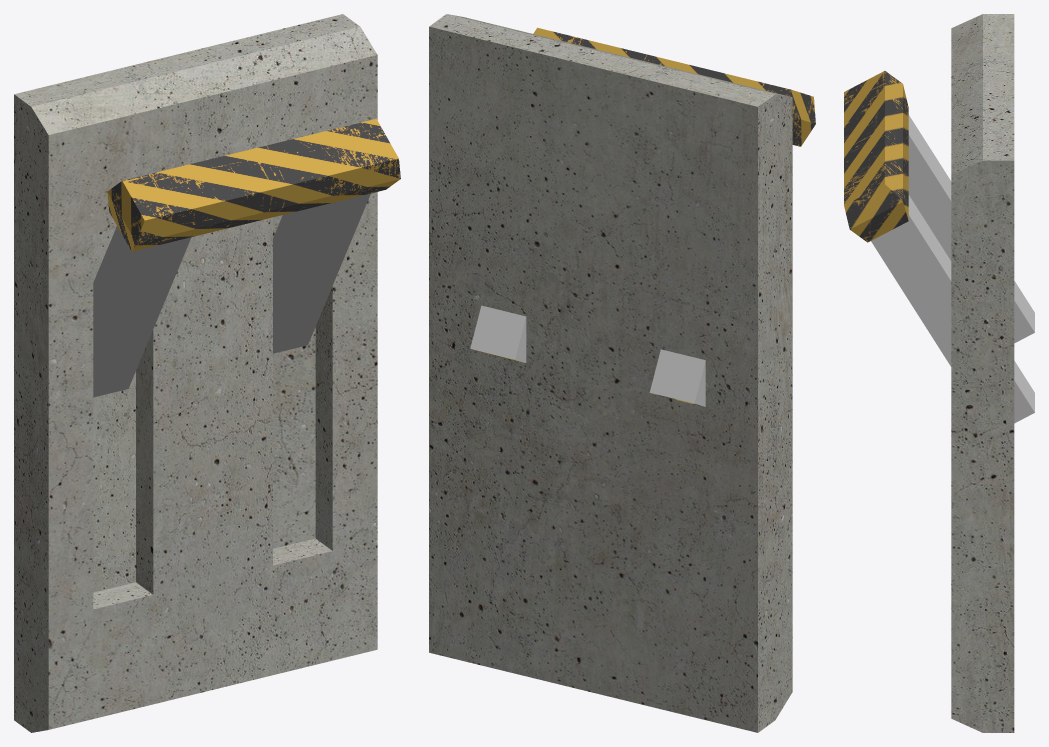
Rendered from switch.dae.
The picture shows the model from 3 angles, left to right: view 1: azimuth 30°, elevation 25°; view 2: azimuth 150°, elevation 25°; view 3: azimuth 270°, elevation 25°; orthographic projection. The views are drawn at different scales.
Visible parts, largest first — view 1: Base, Switch; view 2: Base, Switch; view 3: Base, Switch.
Part boxes in pixels (<box>): Base: <box>14,14,377,732</box>; Switch: <box>93,118,400,397</box>; Base: <box>429,14,792,732</box>; Switch: <box>470,27,815,406</box>; Base: <box>951,14,1014,732</box>; Switch: <box>844,71,1034,423</box>.
Size of the model in its own units: 0.22 by 0.121 by 0.4.
3 materials, 2 textured.
